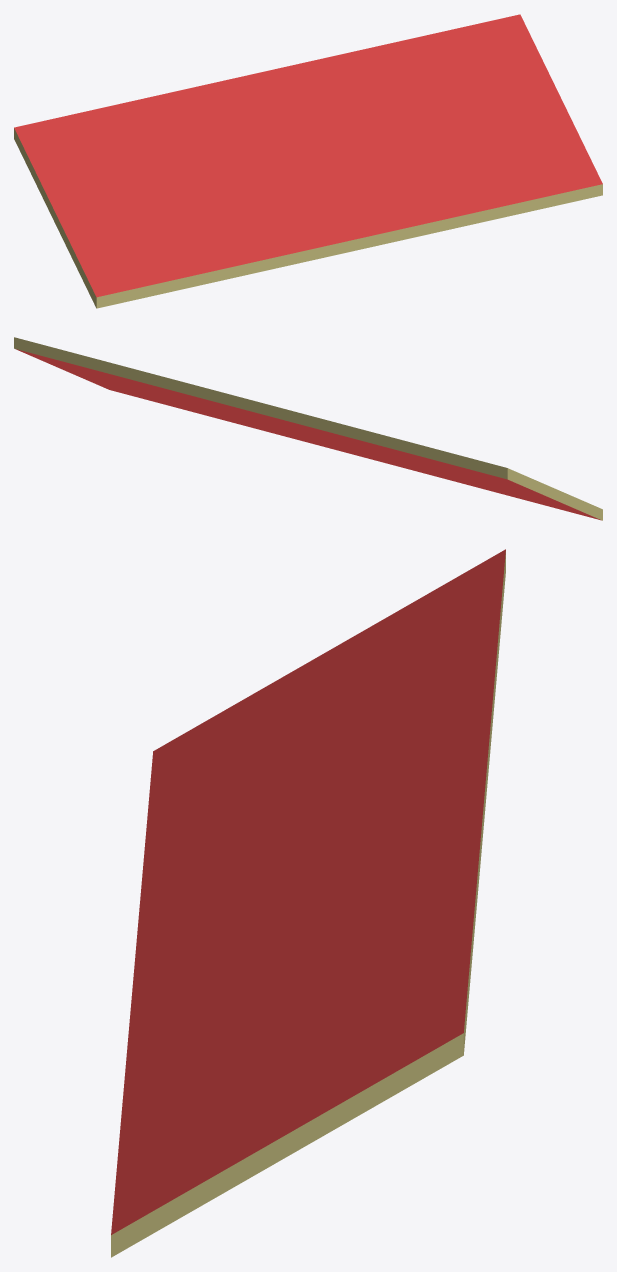
3 renders of one model, top to bottom at view 1: azimuth 30°, elevation 25°; view 2: azimuth 150°, elevation 25°; view 3: azimuth 270°, elevation 25°, orthographic. The views are drawn at different scales.
Size of the model in its own units: 4.66 by 1.59 by 1.02.
